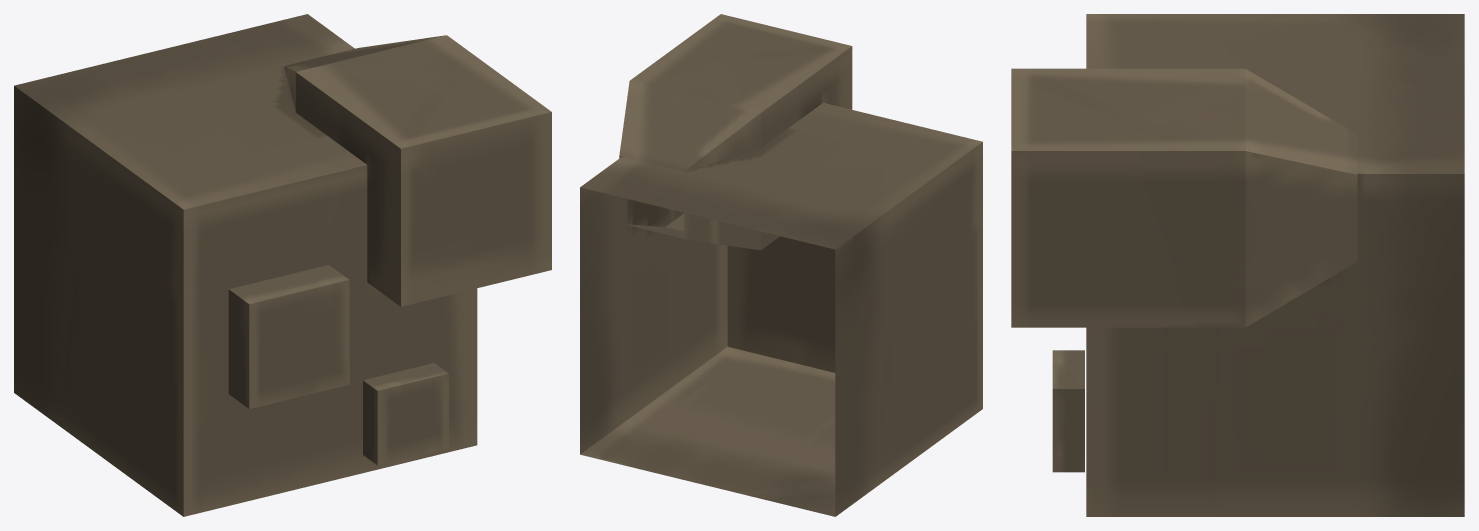
File: Wall_1x1_Corner.obj
The picture shows the model from 3 angles, left to right: view 1: azimuth 30°, elevation 25°; view 2: azimuth 150°, elevation 25°; view 3: azimuth 270°, elevation 25°; orthographic projection. The views are drawn at different scales.
Visible parts, largest first — view 1: Cube; view 2: Cube; view 3: Cube.
Part boxes in pixels (x1,y1,x2,y2): Cube: [14, 14, 551, 516]; Cube: [580, 14, 982, 516]; Cube: [1011, 14, 1464, 516].
Bounding box in the file's own units: 2.28 × 2.26 × 2.4.
